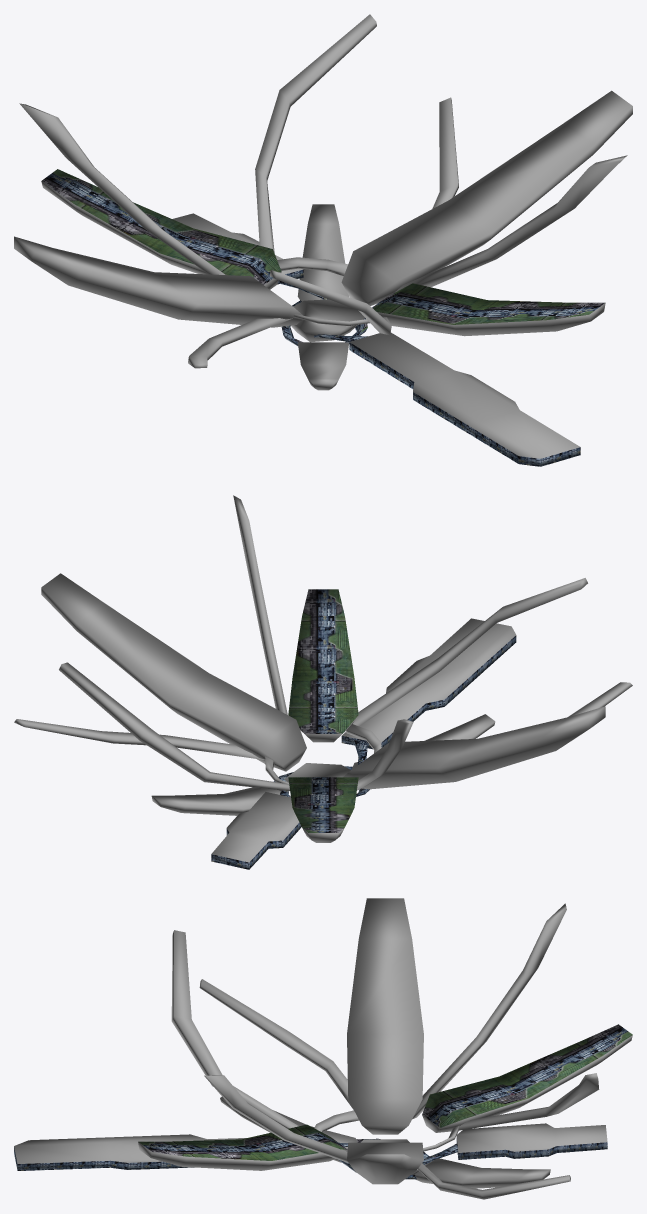
File: MIshipyardplat.dae
The picture shows the model from 3 angles, top to bottom: view 1: azimuth 30°, elevation 25°; view 2: azimuth 150°, elevation 25°; view 3: azimuth 270°, elevation 25°; orthographic projection. The views are drawn at different scales.
Parts seen in each view (by area): view 1: Cube; view 2: Cube; view 3: Cube.
Boxes of the visible parts, x1,y1,x2,y2 form: Cube: (14, 14, 632, 466); Cube: (14, 495, 632, 869); Cube: (14, 898, 632, 1199).
Size of the model in its own units: 13.9 by 4.54 by 14.12.
